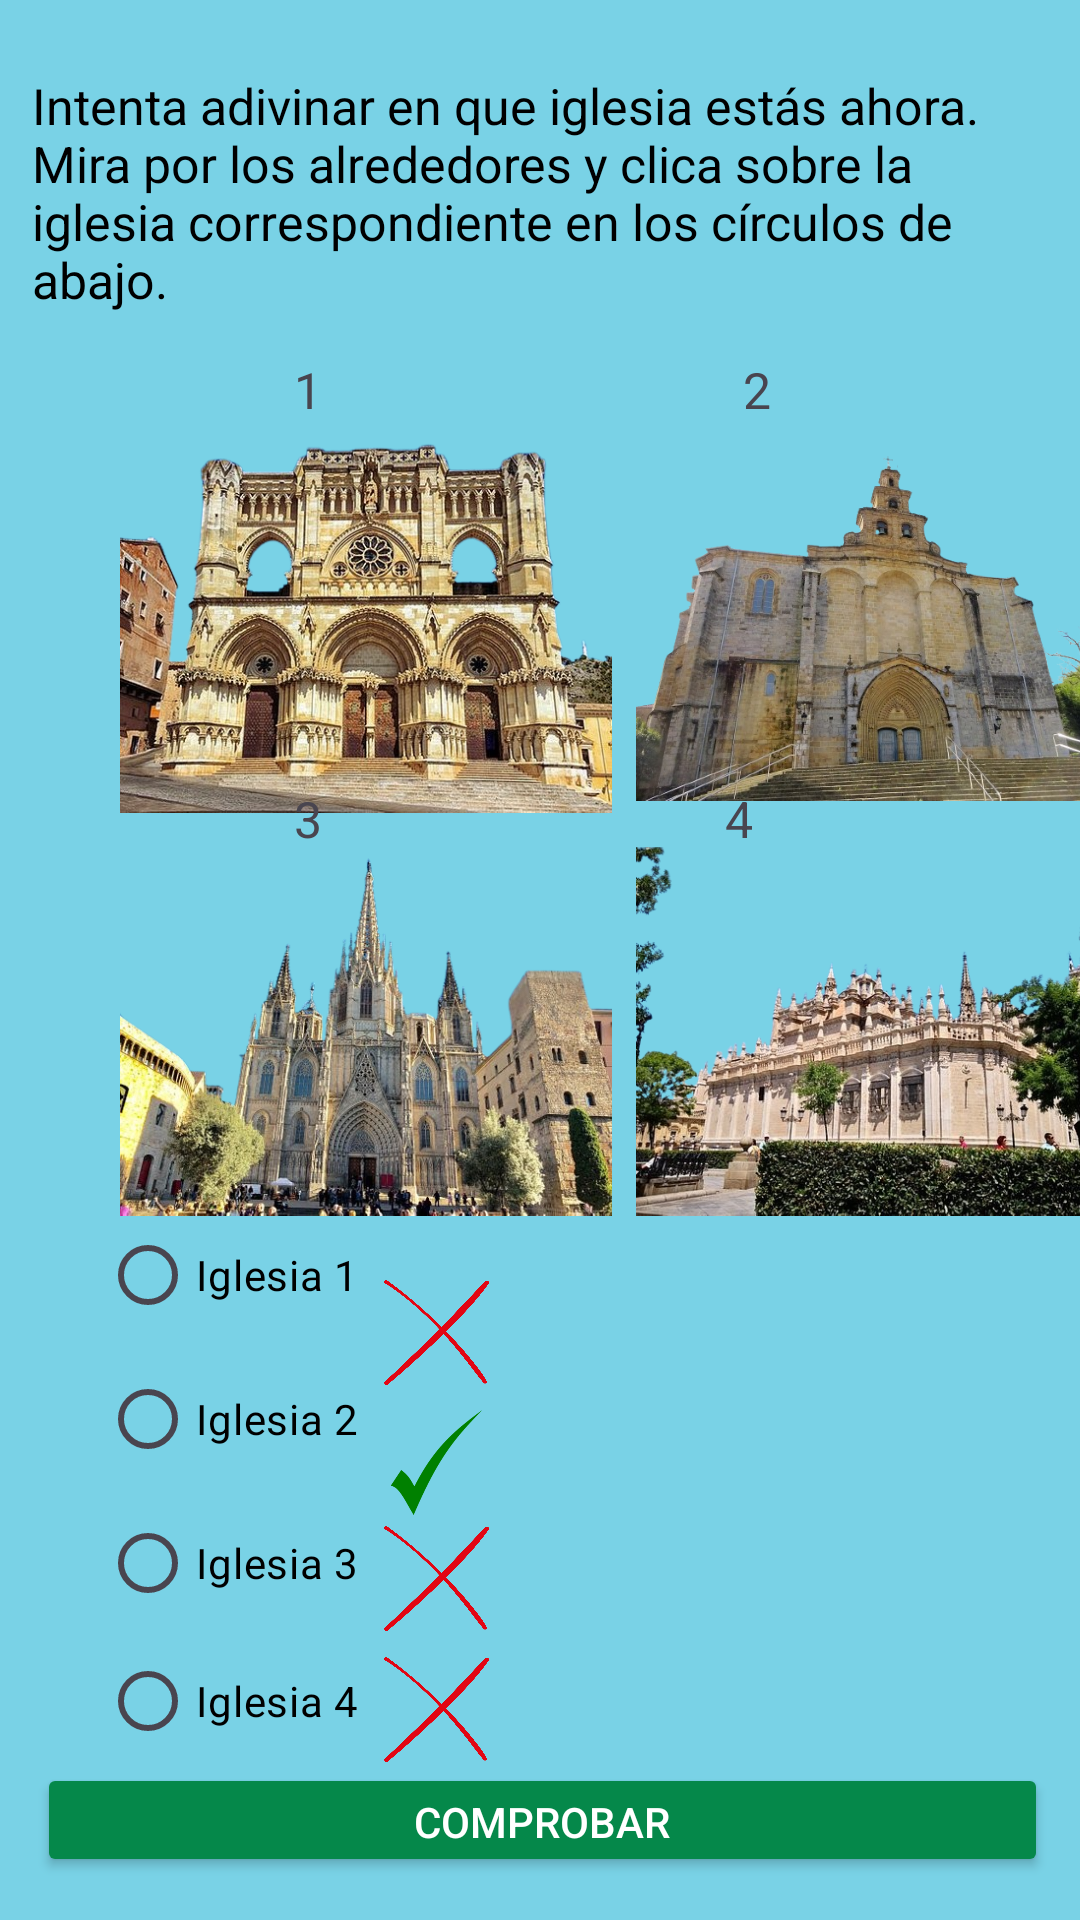

Icon click points for this 1080px×1920px phone screenshot, format [x,y]:
incorrecto: [436,1332], [436,1578], [436,1709]
tick: [436,1462]
